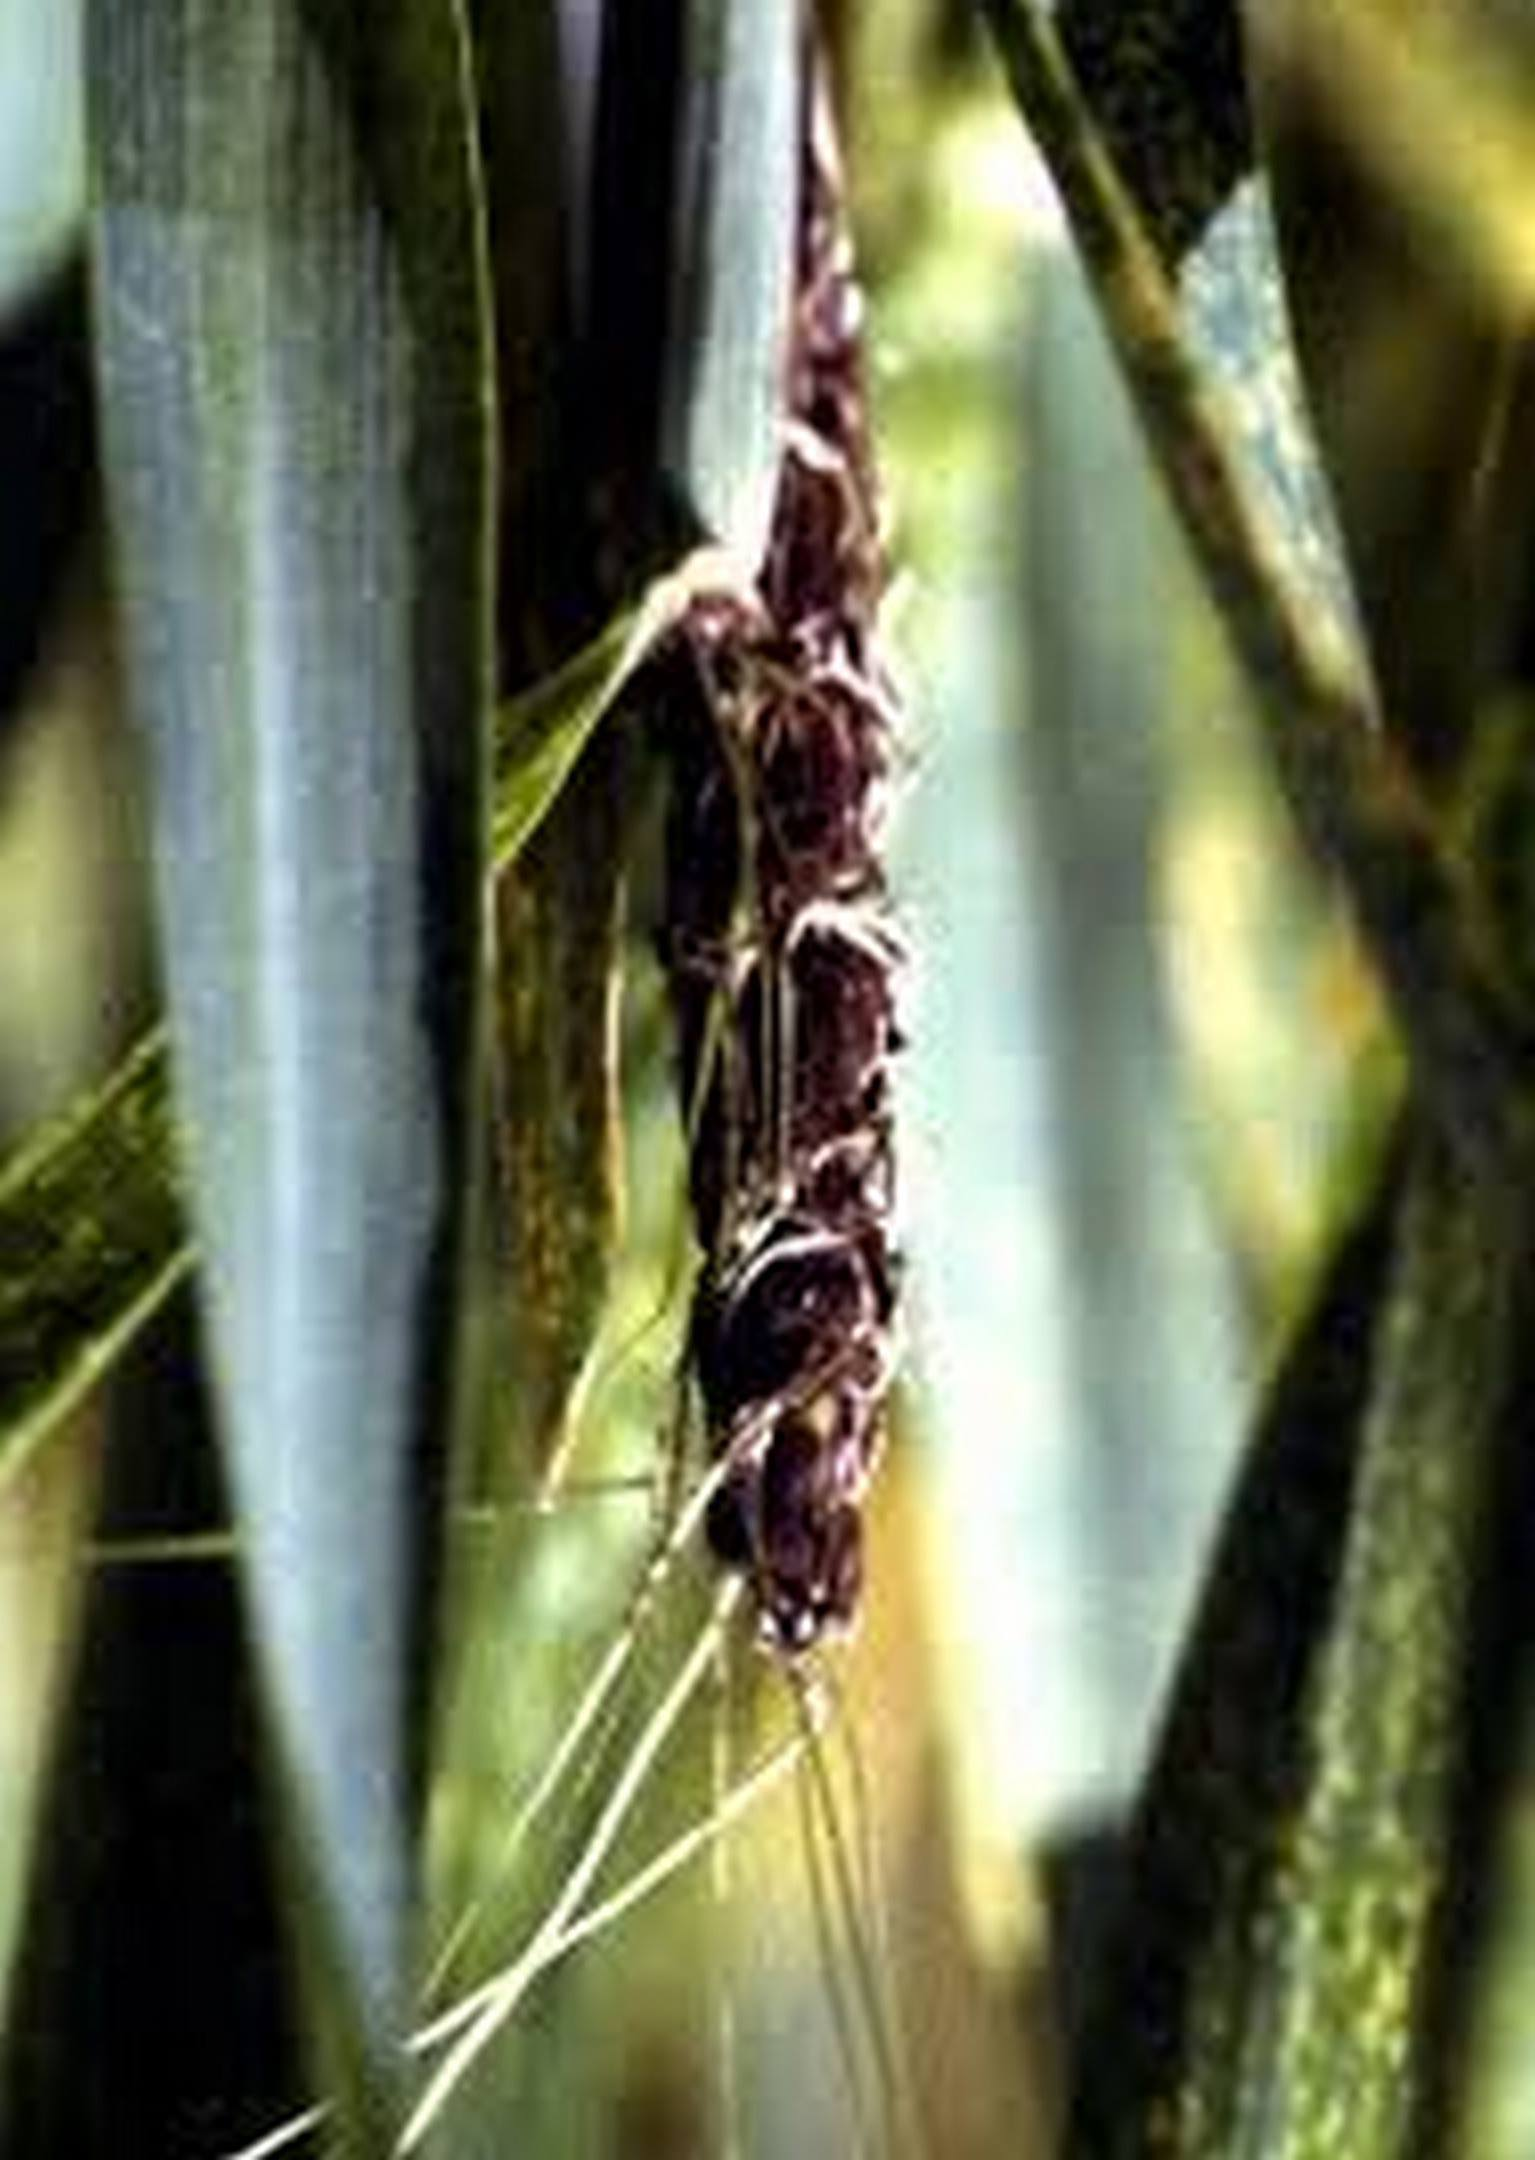Wheat Loose Smut: (616, 229, 960, 1716)
